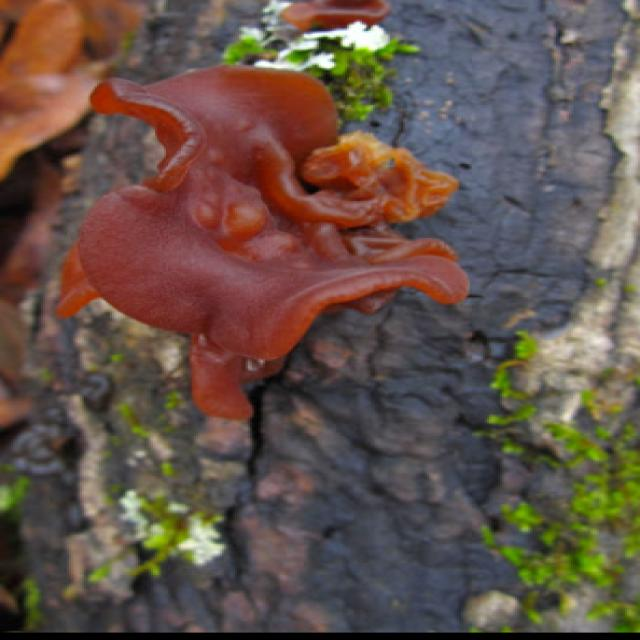Fase Muda: (81, 68, 466, 419)
